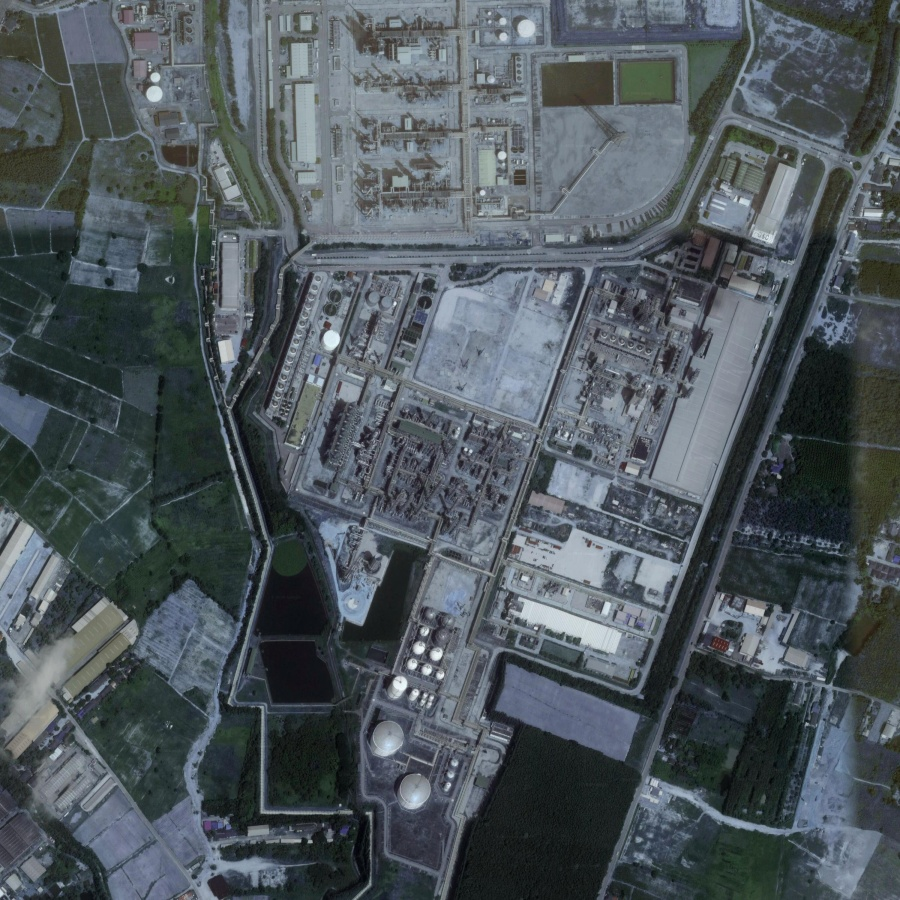PowerPlant: (280, 363, 532, 822)
